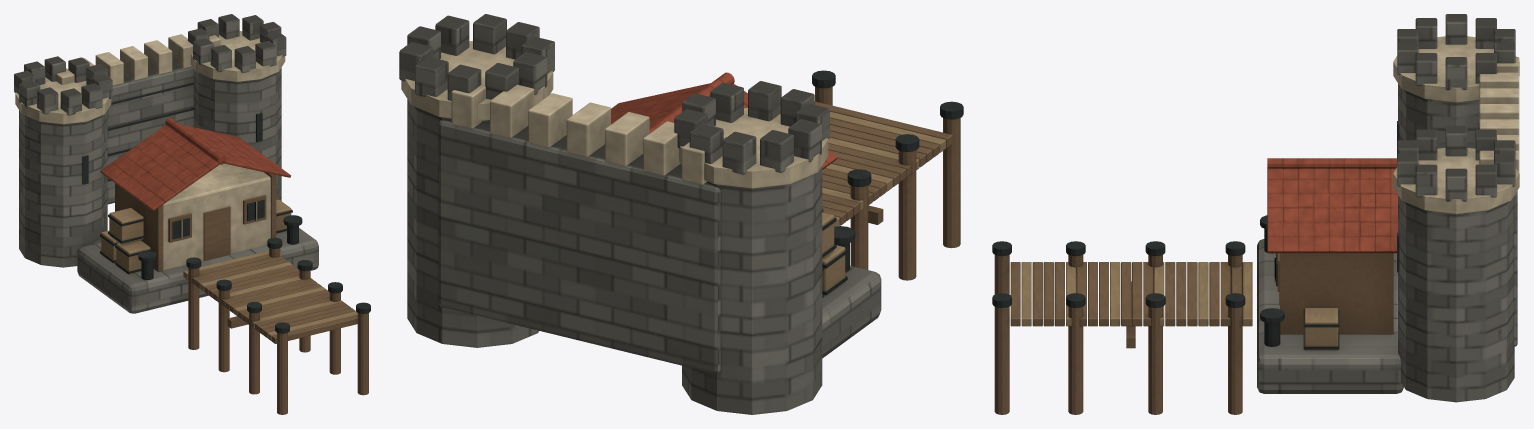
The model's file is port-fort.glb.
3 renders of one model, left to right at view 1: azimuth 30°, elevation 25°; view 2: azimuth 150°, elevation 25°; view 3: azimuth 270°, elevation 25°, orthographic. The views are drawn at different scales.
Visible parts, largest first — view 1: Port fort; view 2: Port fort; view 3: Port fort.
Part boxes in pixels (<box>): Port fort: <box>14,14,370,414</box>; Port fort: <box>399,14,963,414</box>; Port fort: <box>992,14,1519,414</box>.
Size of the model in its own units: 6.36 by 5.22 by 8.59.
1 material, 1 textured.
